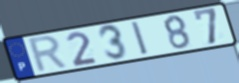2: (64, 29, 100, 68)
3: (98, 23, 129, 63)
7: (191, 6, 220, 46)
8: (164, 15, 192, 51)
I: (129, 20, 151, 57)
R: (27, 33, 71, 75)
